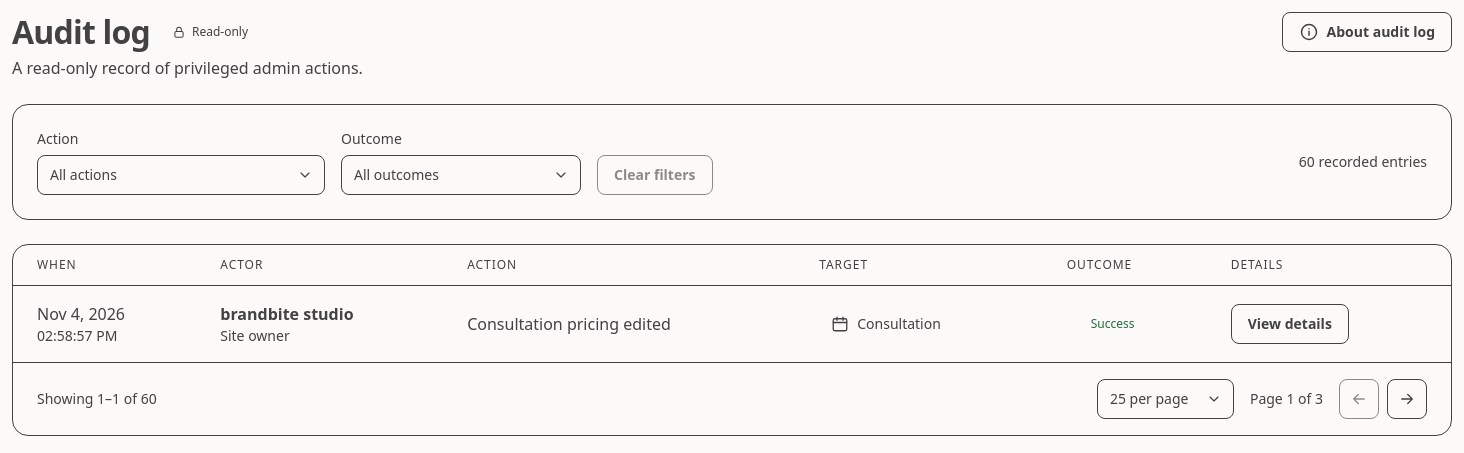
Scenario: Audit log page › pages with the chosen page size
Expected: the text "Page 1 of 3" is shown, [1250, 389, 1323, 409]
Click the button named "Next page". click: click(1407, 399)
box: [1387, 379, 1427, 419]
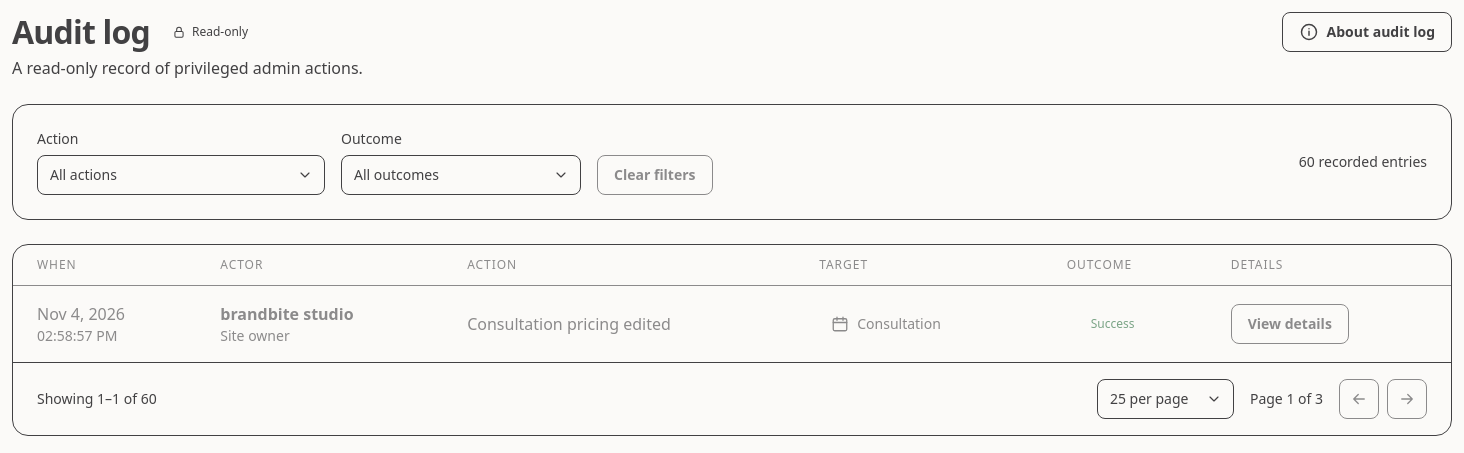
Select "10 per page" in the dropdown named "Entries per page". click: (1165, 399)
box: [1097, 379, 1234, 419]
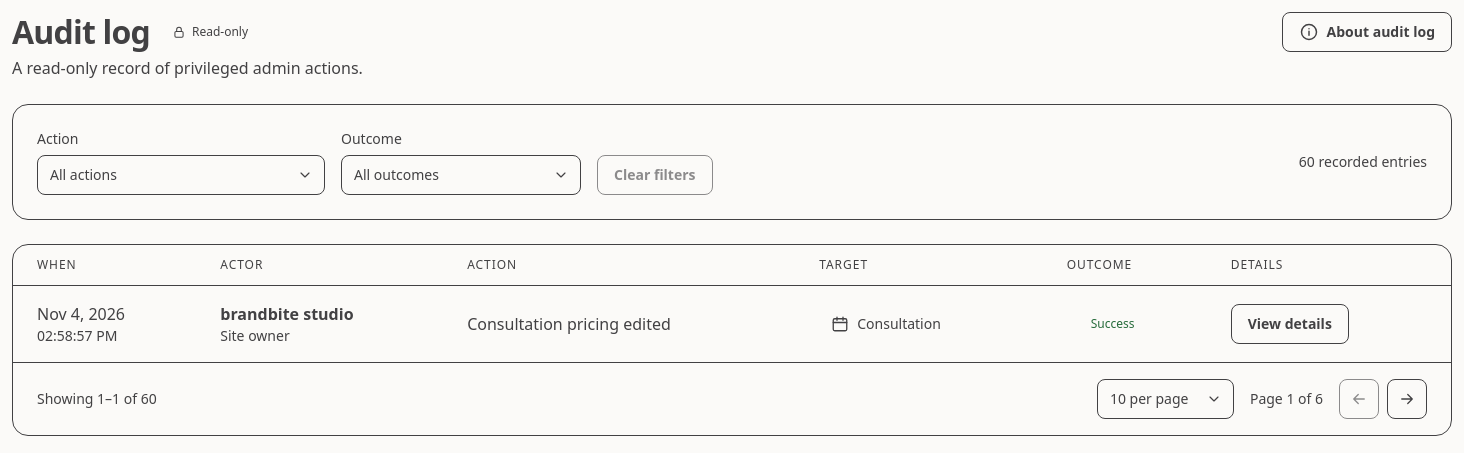
Expected: the text "Page 1 of 6" is shown, [1250, 389, 1323, 409]
